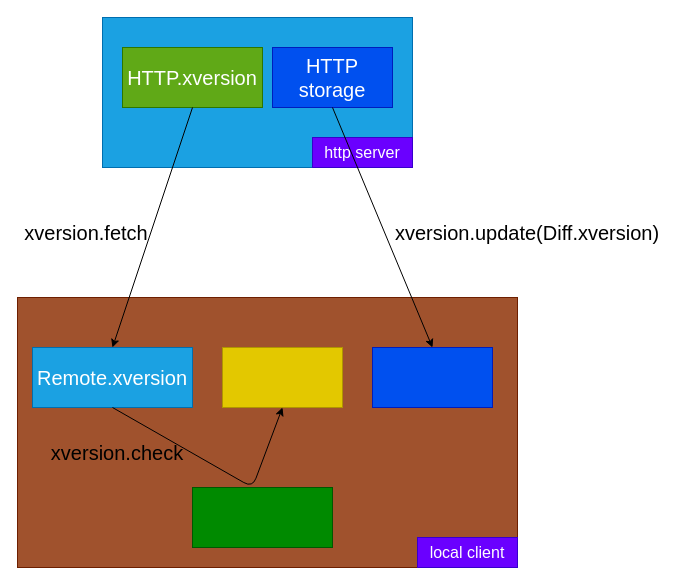
Image size: 677x585. Some labels were removed from this diagram. The shapes that lost their labels are listed below. From the top down, each one's centre as x and y in pixels, then its label:
point (282, 377): Diff.xversion
point (432, 377): Local storage
point (262, 517): Local.xversion
